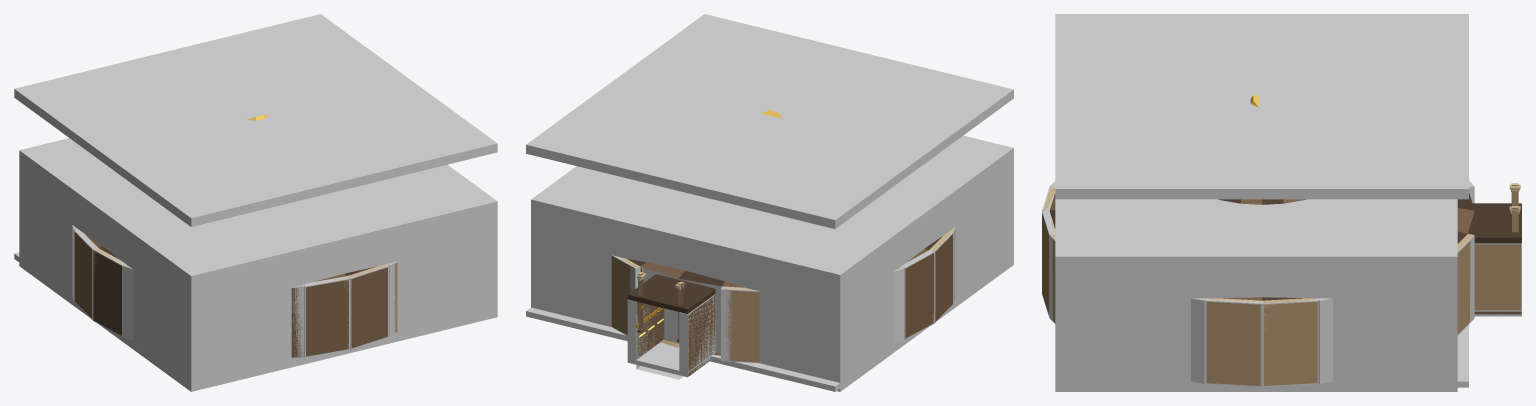
The model's file is zona_3_camara.glb.
3 renders of one model, left to right at view 1: azimuth 30°, elevation 25°; view 2: azimuth 150°, elevation 25°; view 3: azimuth 270°, elevation 25°, orthographic. The views are drawn at different scales.
Visible parts, largest first — view 1: trg_box_cam_c_arena, col_box_cupula, trg_box_zona_c_arena, camara_escenario, col_box_suelo_arena, col_box_muro_arena_13, col_box_muro_arena_16, col_box_muro_arena_17, col_box_muro_arena_19; view 2: col_box_cupula, trg_box_zona_c_arena, trg_box_cam_c_arena, camara_escenario, col_box_suelo_arena, col_box_pasillo_arena_o, col_box_suelo_pasillo_arena, col_box_muro_arena_7, col_box_muro_arena_10, col_box_pasillo_arena_e, trg_box_zona_c_pasillo, col_box_muro_arena_11; view 3: col_box_cupula, trg_box_cam_c_arena, trg_box_zona_c_arena, camara_escenario, col_box_suelo_arena, col_box_muro_arena_1, col_box_muro_arena_22, col_box_muro_arena_23, col_box_muro_arena_0, col_box_muro_arena_4.
Boxes of the visible parts, <box> form: trg_box_cam_c_arena: <box>24,141,497,391</box>; col_box_cupula: <box>14,14,497,226</box>; trg_box_zona_c_arena: <box>19,138,495,390</box>; camara_escenario: <box>74,114,397,357</box>; col_box_suelo_arena: <box>14,252,497,388</box>; col_box_muro_arena_13: <box>123,264,133,340</box>; col_box_muro_arena_16: <box>291,284,304,358</box>; col_box_muro_arena_17: <box>303,276,349,357</box>; col_box_muro_arena_19: <box>386,261,397,336</box>; col_box_cupula: <box>526,14,1013,228</box>; trg_box_zona_c_arena: <box>531,136,1013,391</box>; trg_box_cam_c_arena: <box>567,135,1013,387</box>; camara_escenario: <box>611,110,953,375</box>; col_box_suelo_arena: <box>526,256,1013,391</box>; col_box_pasillo_arena_o: <box>679,294,715,372</box>; col_box_suelo_pasillo_arena: <box>627,342,710,377</box>; col_box_muro_arena_7: <box>721,286,759,363</box>; col_box_muro_arena_10: <box>894,267,904,343</box>; col_box_pasillo_arena_e: <box>627,299,664,360</box>; trg_box_zona_c_pasillo: <box>636,306,683,379</box>; col_box_muro_arena_11: <box>901,250,934,339</box>; col_box_cupula: <box>1055,14,1468,199</box>; trg_box_cam_c_arena: <box>1055,199,1445,391</box>; trg_box_zona_c_arena: <box>1055,199,1457,391</box>; camara_escenario: <box>1042,95,1521,385</box>; col_box_suelo_arena: <box>1055,325,1468,387</box>; col_box_muro_arena_1: <box>1317,298,1333,383</box>; col_box_muro_arena_22: <box>1191,298,1206,383</box>; col_box_muro_arena_23: <box>1205,298,1262,387</box>; col_box_muro_arena_0: <box>1262,298,1318,386</box>; col_box_muro_arena_4: <box>1457,234,1474,335</box>.
Bounding box in the file's own units: 38.32 × 19.96 × 41.76.
